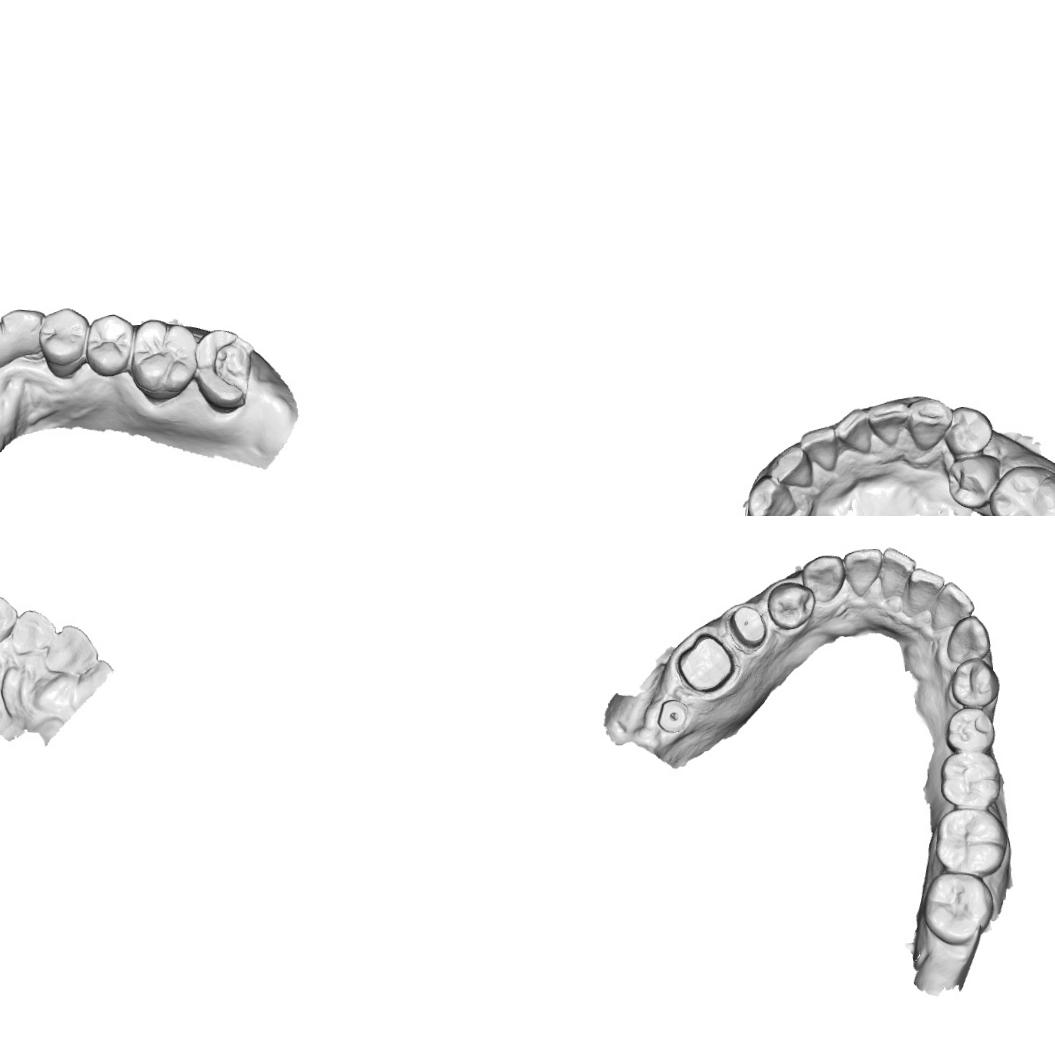canine: (905, 396, 955, 454), (800, 552, 846, 604), (945, 614, 992, 664), (744, 474, 798, 516), (1, 306, 43, 358), (0, 594, 18, 647)
crown: (673, 629, 742, 698), (725, 602, 770, 653)
implant: (654, 696, 690, 734)
incisor: (42, 623, 100, 675), (930, 580, 976, 630), (842, 547, 886, 599), (10, 608, 57, 656), (768, 444, 816, 490), (868, 400, 911, 449), (798, 424, 839, 475), (879, 544, 918, 596), (832, 407, 873, 456), (906, 565, 946, 612), (0, 313, 11, 370)
molar: (190, 324, 256, 412), (921, 870, 995, 946), (933, 806, 1010, 878), (128, 321, 201, 396), (936, 750, 1002, 808), (987, 462, 1055, 516)
premolar: (944, 453, 1004, 511), (38, 304, 88, 372), (84, 312, 134, 374), (948, 655, 1001, 710), (765, 580, 818, 632), (942, 404, 994, 456), (944, 707, 996, 754)
